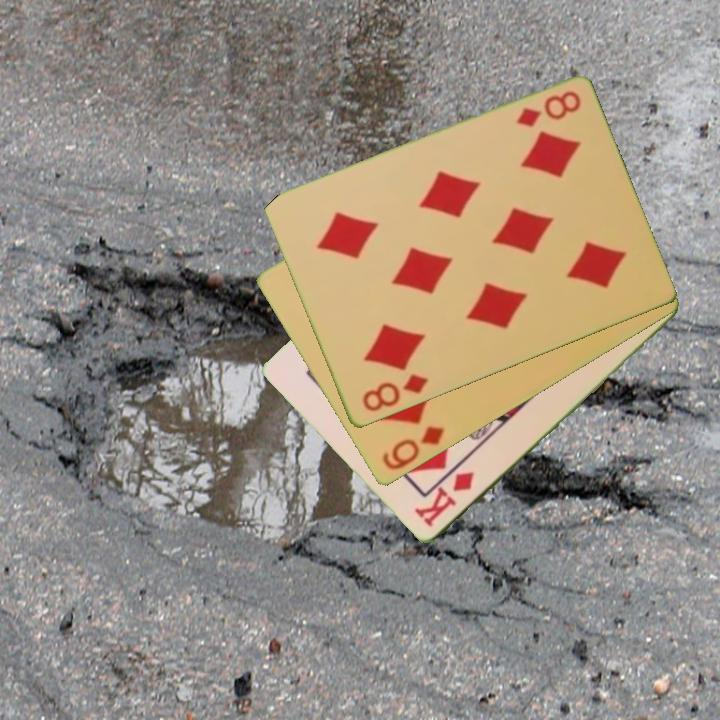6d: (378, 423, 448, 474)
8d: (358, 371, 431, 415), (512, 88, 584, 132)
Kd: (412, 468, 478, 531)
